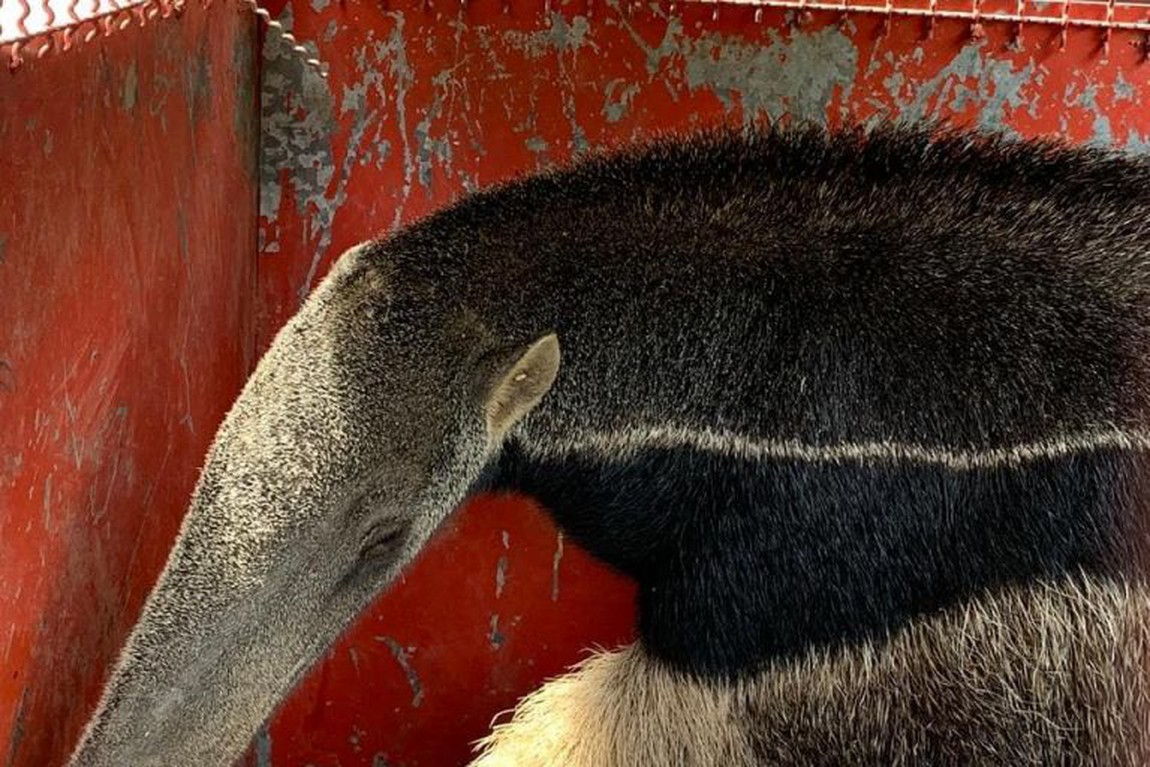TamanduaBandeira: (73, 133, 1129, 756)
